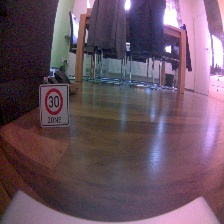dreisiger_zone: (38, 84, 70, 126)
